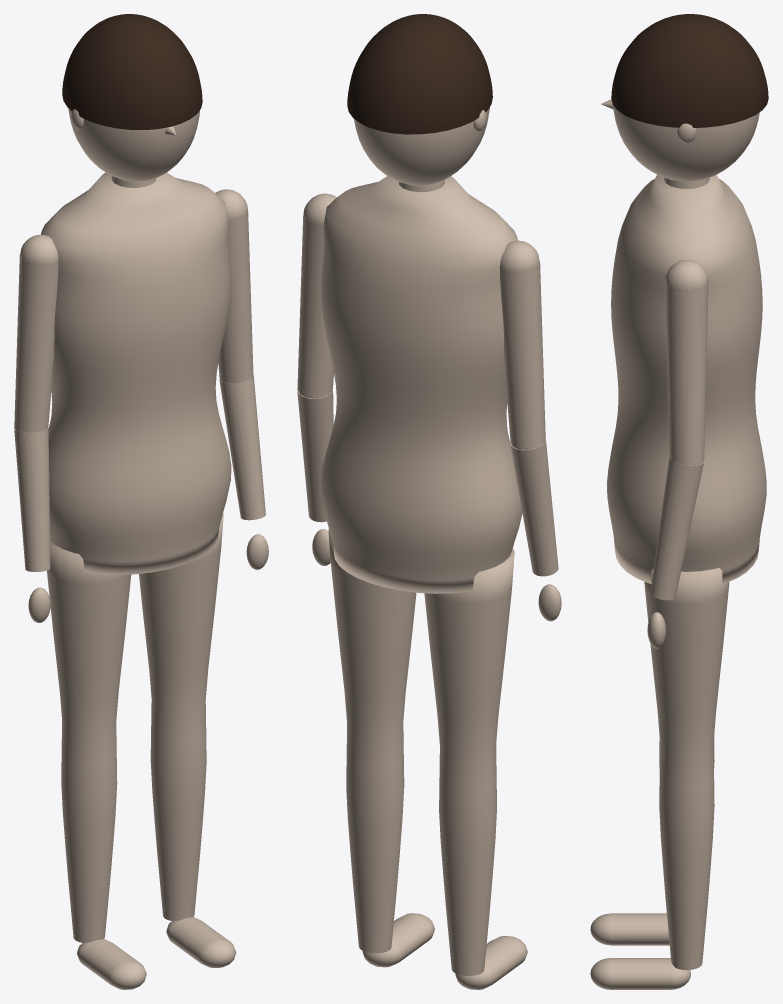
The model's file is mannequin-reference.glb.
The picture shows the model from 3 angles, left to right: view 1: azimuth 30°, elevation 25°; view 2: azimuth 150°, elevation 25°; view 3: azimuth 270°, elevation 25°; orthographic projection. The views are drawn at different scales.
Visible parts, largest first — view 1: mannequin_reference; view 2: mannequin_reference; view 3: mannequin_reference.
Part boxes in pixels (x1,y1,x2,y2): mannequin_reference: (14,14,268,989); mannequin_reference: (297,14,561,989); mannequin_reference: (590,14,768,989).
Size of the model in its own units: 0.4795 by 1.78 by 0.3043.
